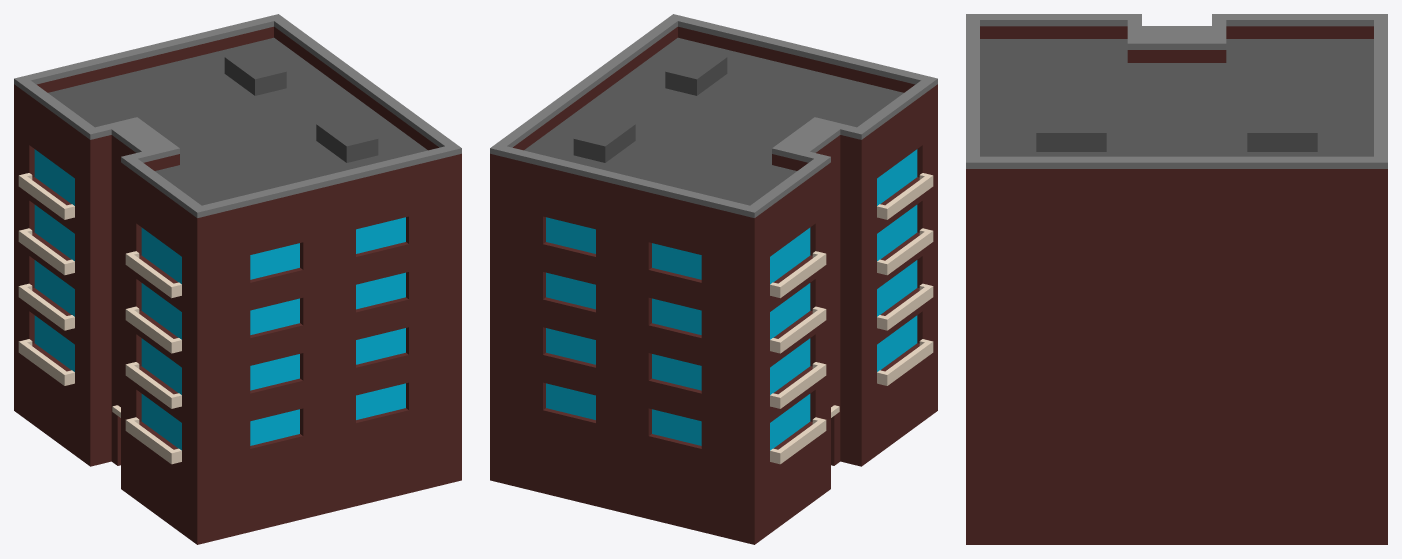
File: apartment.glb
3 views of the same model, side by side, from view 1: azimuth 30°, elevation 25°; view 2: azimuth 150°, elevation 25°; view 3: azimuth 270°, elevation 25° (orthographic). The views are drawn at different scales.
Visible parts, largest first — view 1: House04; view 2: House04; view 3: House04.
Part boxes in pixels (x1=…): House04: x1=14, y1=14, x2=461, y2=544; House04: x1=490, y1=14, x2=937, y2=544; House04: x1=966, y1=14, x2=1387, y2=544.
Bounding box in the file's own units: 5.2 × 6 × 6.
Materials: 1 (1 with a texture image).
